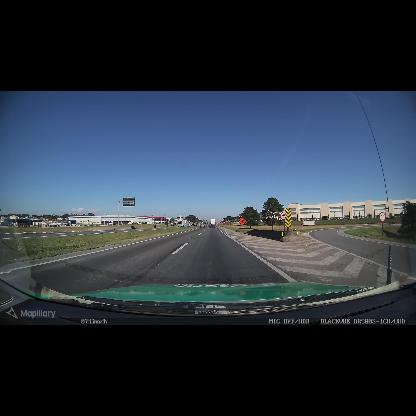A-24: (239, 217, 246, 225)
O-MP: (285, 208, 291, 227)
R-19: (379, 212, 386, 222), (280, 212, 285, 220)
